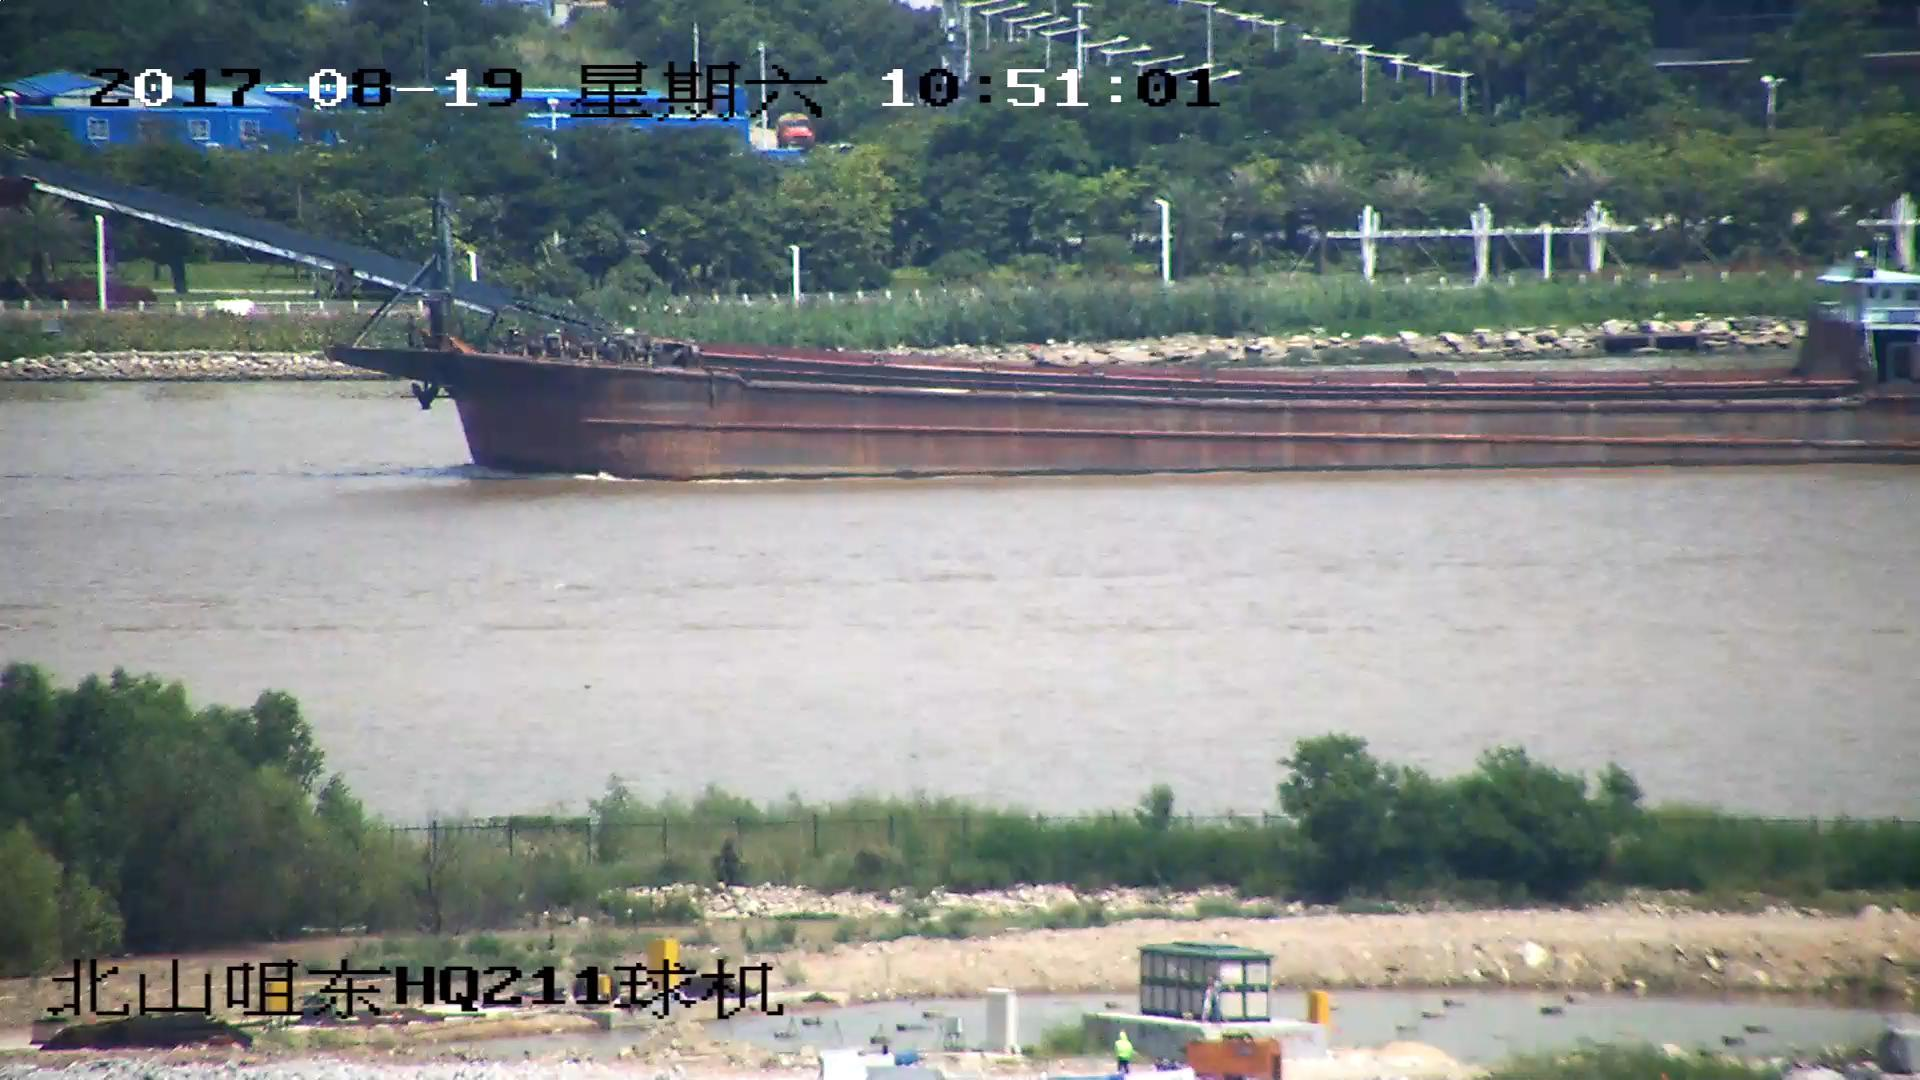Ship: (11, 158, 1920, 483)
